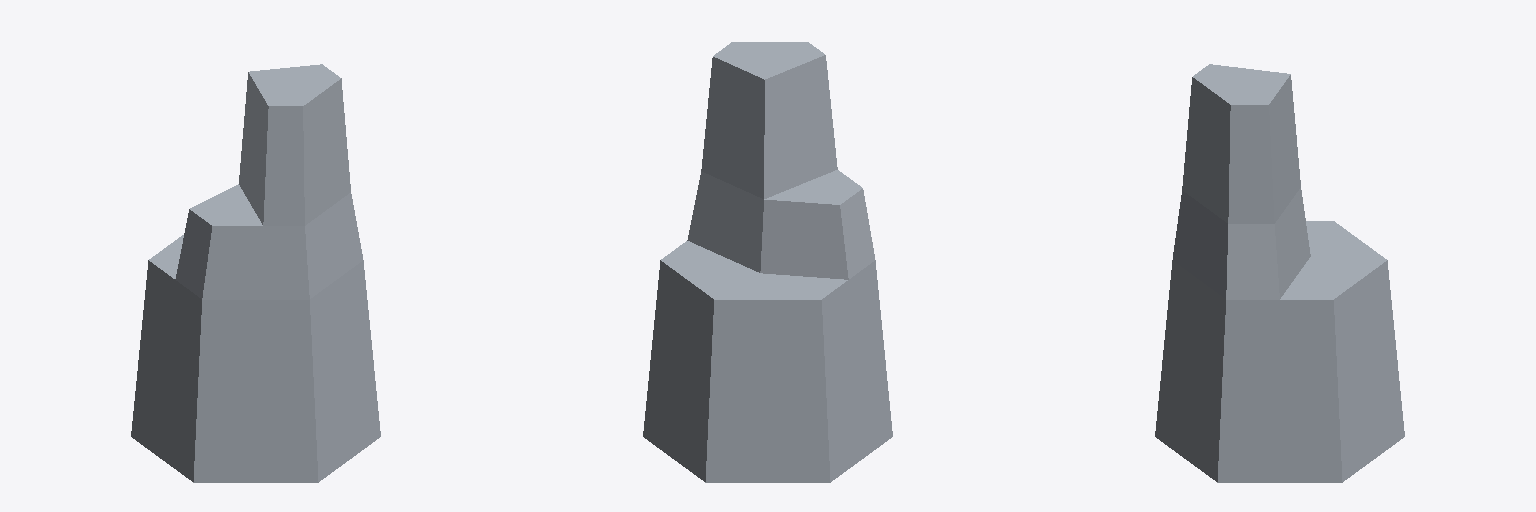
The model's file is Tall_Rock_2_01.obj.
The picture shows the model from 3 angles: view 1: azimuth 30°, elevation 25°; view 2: azimuth 150°, elevation 25°; view 3: azimuth 270°, elevation 25°; orthographic projection.
Visible parts, largest first — view 1: Mesh1_Tall_Rock_2_Model; view 2: Mesh1_Tall_Rock_2_Model; view 3: Mesh1_Tall_Rock_2_Model.
Part boxes in pixels (left/top/right/bottom): Mesh1_Tall_Rock_2_Model: left=131, top=64, right=380, bottom=482; Mesh1_Tall_Rock_2_Model: left=643, top=42, right=892, bottom=482; Mesh1_Tall_Rock_2_Model: left=1155, top=64, right=1404, bottom=482.
Size of the model in its own units: 1.18 by 2.17 by 1.36.